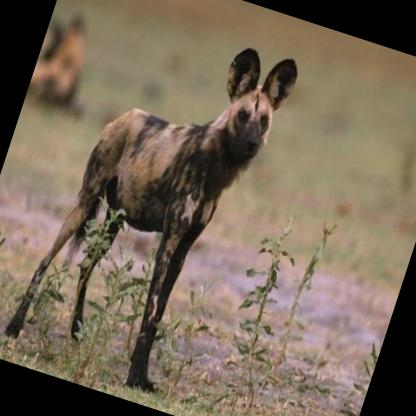African_hunting_dog: (1, 0, 301, 402)
